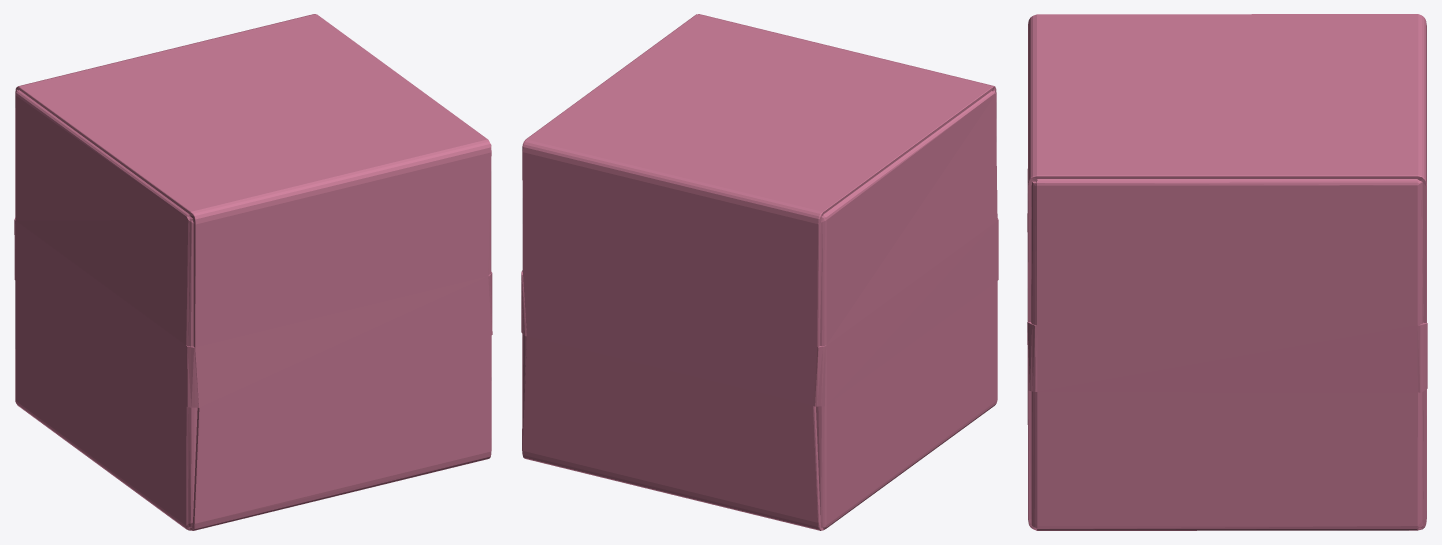
File: box_cardboard_b01.glb
The picture shows the model from 3 angles, left to right: view 1: azimuth 30°, elevation 25°; view 2: azimuth 150°, elevation 25°; view 3: azimuth 270°, elevation 25°; orthographic projection. The views are drawn at different scales.
Visible parts, largest first — view 1: geometry_0; view 2: geometry_0; view 3: geometry_0.
Boxes of the visible parts, x1,y1,x2,y2 form: geometry_0: (14,14,492,530); geometry_0: (521,14,998,530); geometry_0: (1027,14,1427,530).
Bounding box in the file's own units: 0.4704 × 0.4701 × 0.48.
